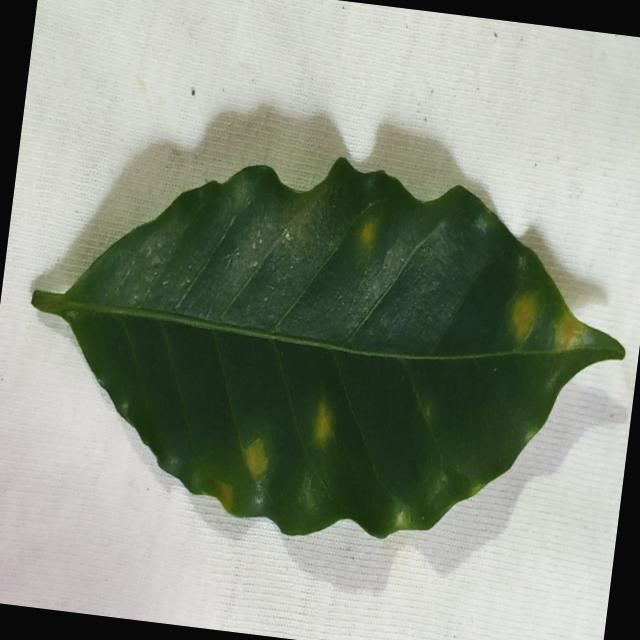KaratDaunKopi: (555, 312, 586, 350), (512, 294, 535, 338), (244, 439, 267, 478), (314, 399, 332, 446), (217, 484, 232, 510), (360, 222, 373, 245), (525, 428, 538, 442), (396, 512, 406, 528), (119, 398, 128, 414), (425, 406, 431, 421)
